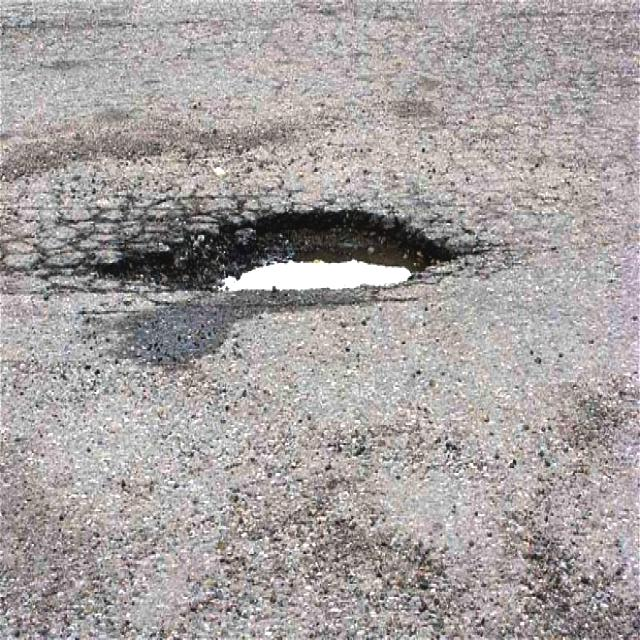Pothole: (69, 198, 489, 324)
